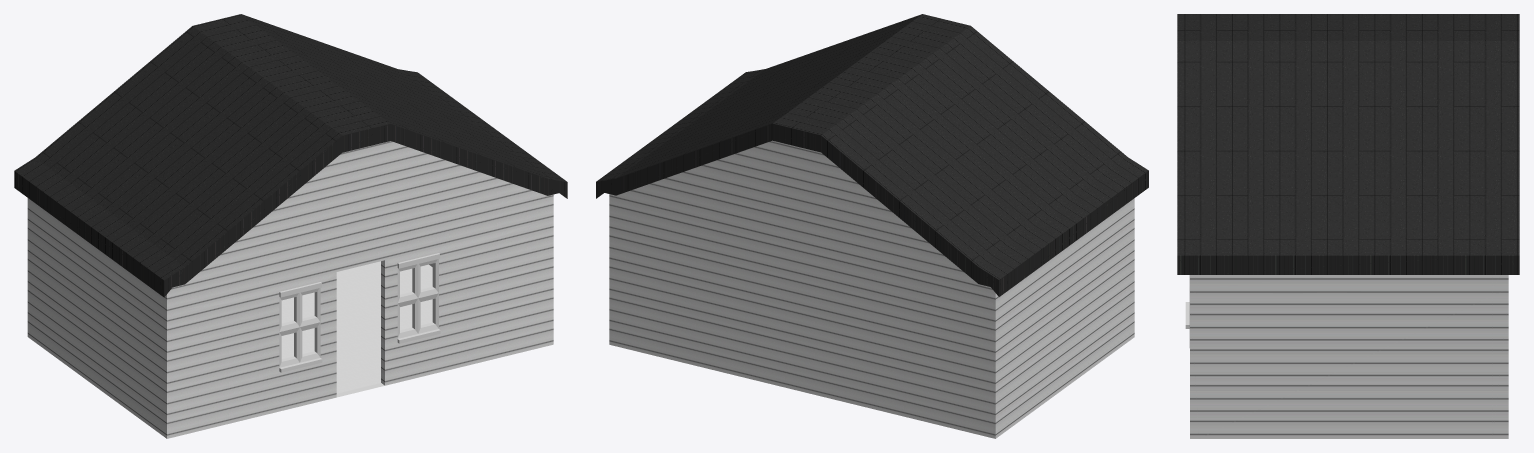
The model's file is house.dae.
The picture shows the model from 3 angles, left to right: view 1: azimuth 30°, elevation 25°; view 2: azimuth 150°, elevation 25°; view 3: azimuth 270°, elevation 25°; orthographic projection. The views are drawn at different scales.
Visible parts, largest first — view 1: Plane; view 2: Plane; view 3: Plane.
Boxes of the visible parts, left/top/right/bottom form: Plane: left=14, top=14, right=567, bottom=438; Plane: left=596, top=14, right=1148, bottom=438; Plane: left=1177, top=14, right=1519, bottom=438.
Bounding box in the file's own units: 33.4 × 21.49 × 21.05.
5 materials, 5 textured.
